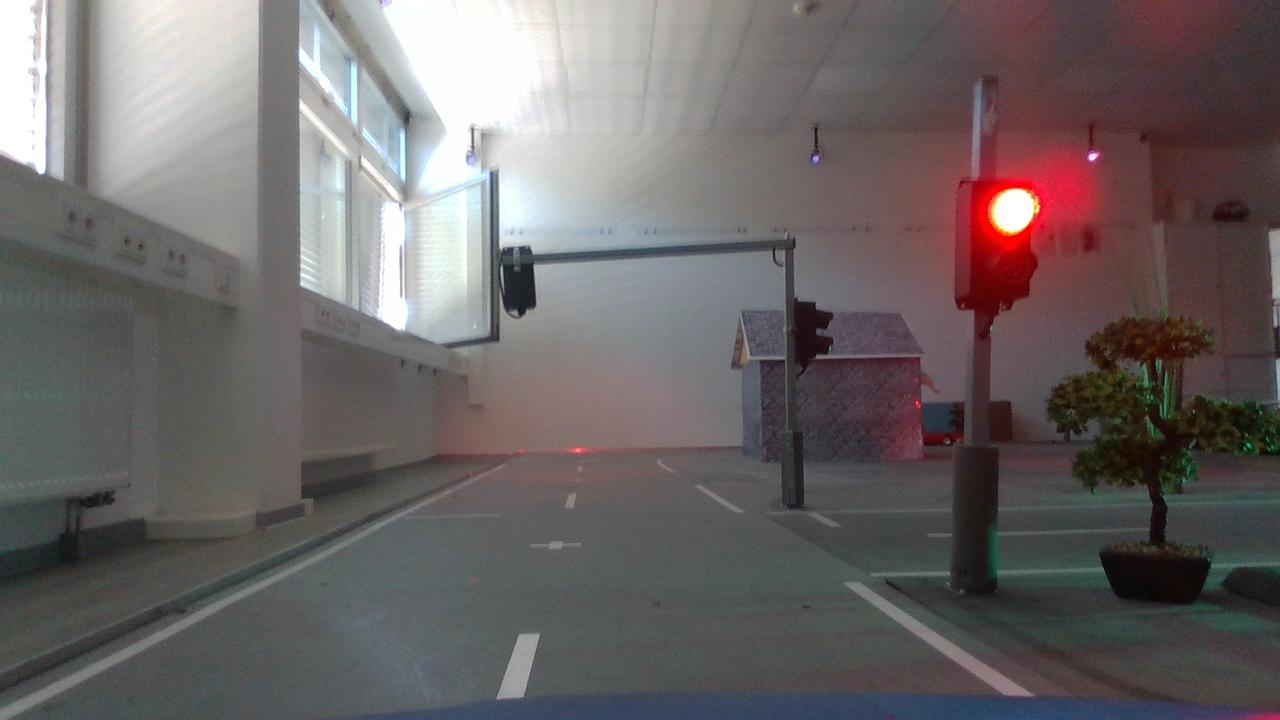traffic_light_red: (946, 172, 1046, 328)
